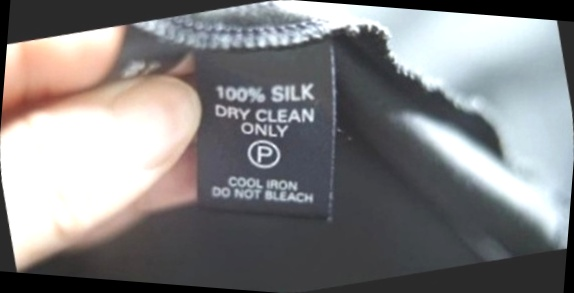dry_clean_any_solvent_except_trichloroethylene: (240, 130, 290, 177)
